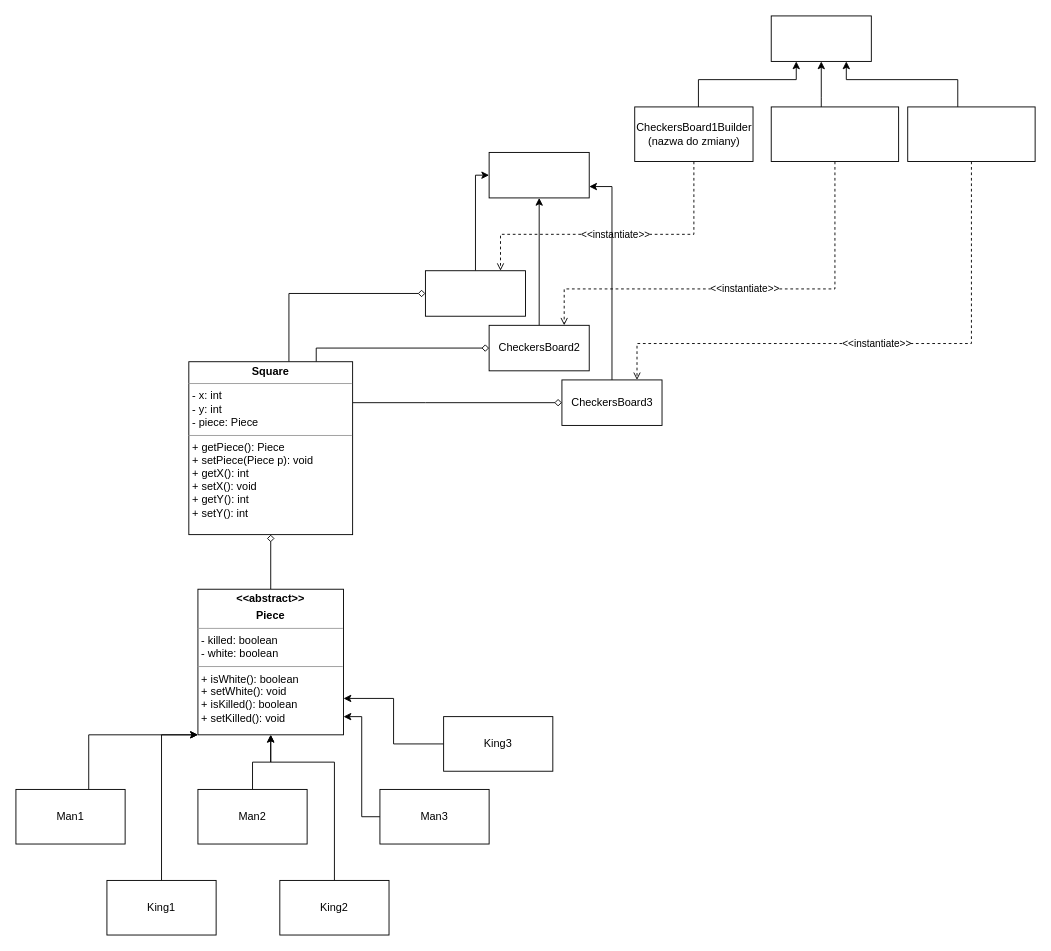
The diagram is 1051 pixels wide and 951 high, and some of its shapes have lost their labels. Each missing label, with the box of its shape:
CheckersBoard1: (425, 270, 526, 316)
CheckersBoard2Builder (nazwa do zmiany): (770, 106, 899, 162)
CheckersBoard3Builder (nazwa do zmiany): (907, 106, 1035, 162)
«interface» Board: (488, 152, 589, 198)
«interface» BoardBuilder: (770, 15, 871, 61)
